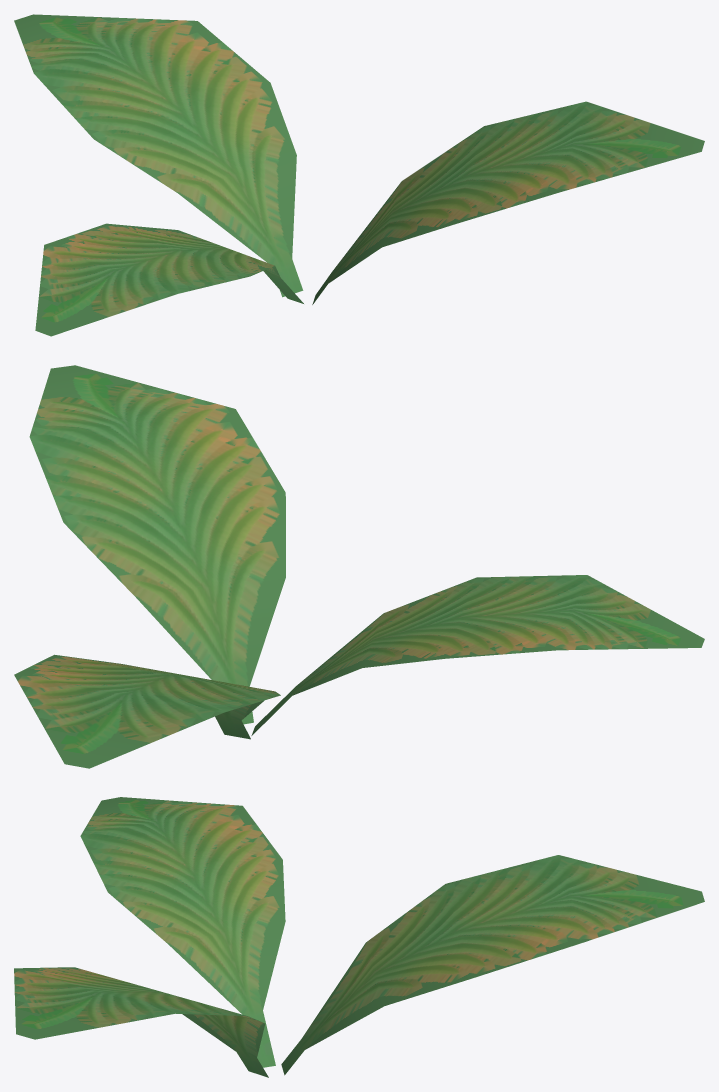
The model's file is bush_04.fbx.
3 views of the same model, one above another, from view 1: azimuth 30°, elevation 25°; view 2: azimuth 150°, elevation 25°; view 3: azimuth 270°, elevation 25° (orthographic). The views are drawn at different scales.
Parts seen in each view (by area): view 1: bush_04; view 2: bush_04; view 3: bush_04.
Boxes of the visible parts, left/top/right/bottom form: bush_04: left=14, top=14, right=704, bottom=336; bush_04: left=14, top=365, right=704, bottom=768; bush_04: left=14, top=797, right=704, bottom=1077.
Size of the model in its own units: 156 by 41.04 by 146.
